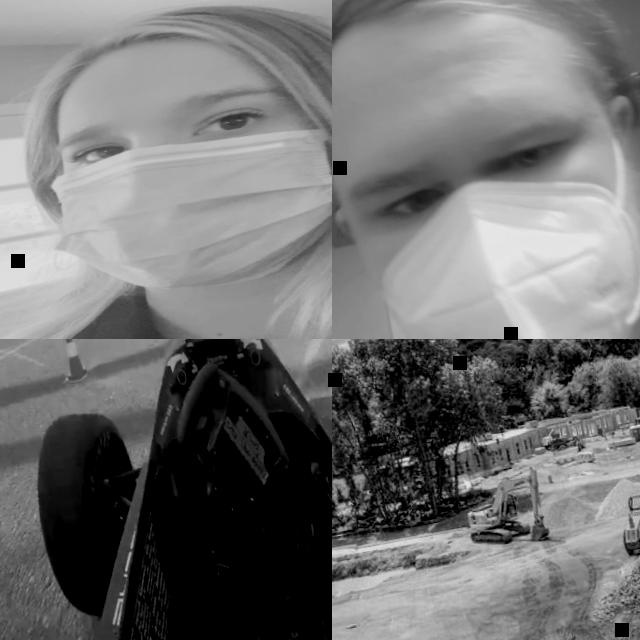Mask: (41, 114, 332, 307), (359, 155, 640, 339)
NO-Hardhat: (332, 0, 604, 156), (4, 0, 332, 129)
NO-Safety Vest: (0, 235, 332, 339), (332, 271, 640, 339)
Person: (0, 0, 332, 339), (332, 0, 640, 339)
Safety Cone: (50, 339, 91, 391)
machinery: (459, 463, 551, 553), (614, 485, 640, 558)
vehicle: (0, 339, 332, 640)
